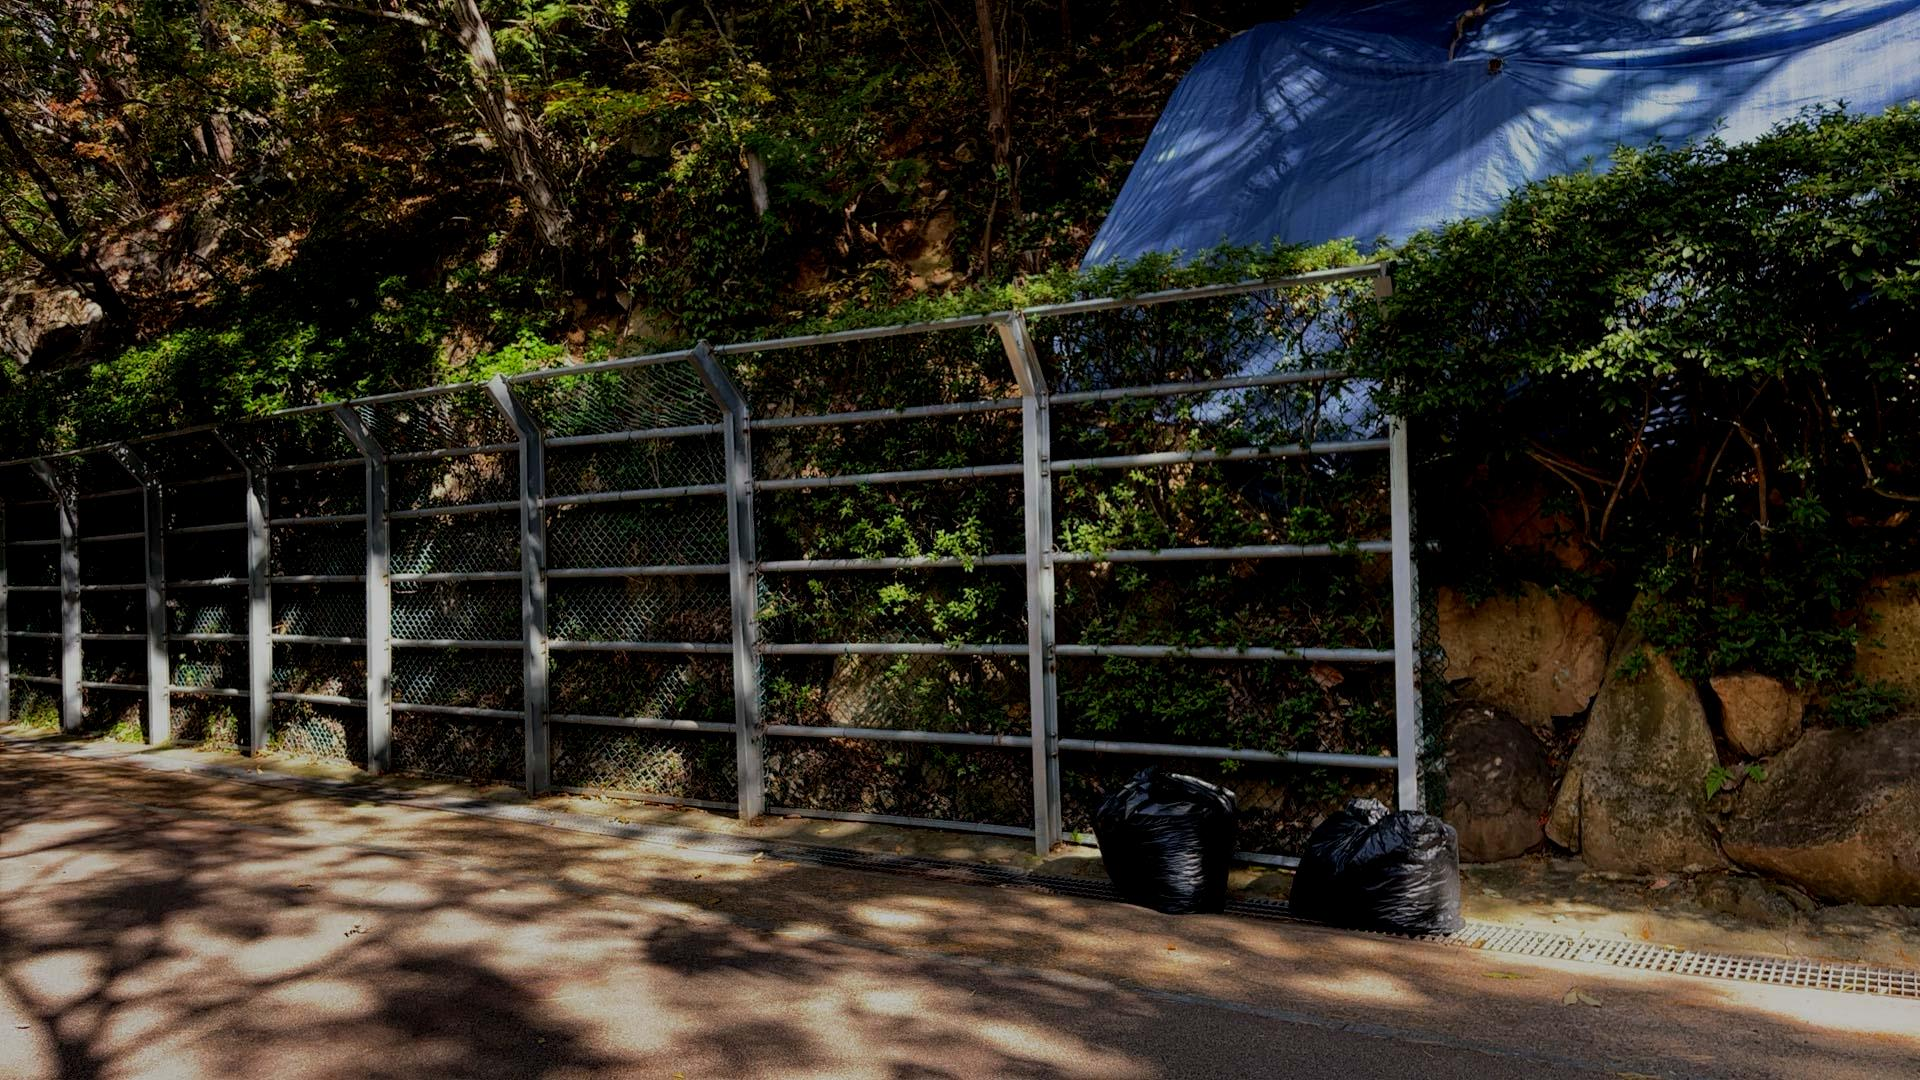black_bag: (1077, 752, 1255, 926), (1280, 793, 1473, 942)
